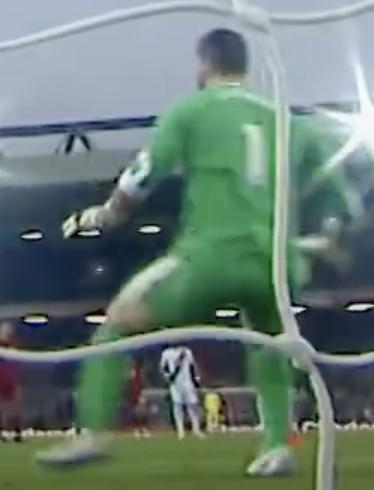goalkeeper: (51, 8, 353, 488)
